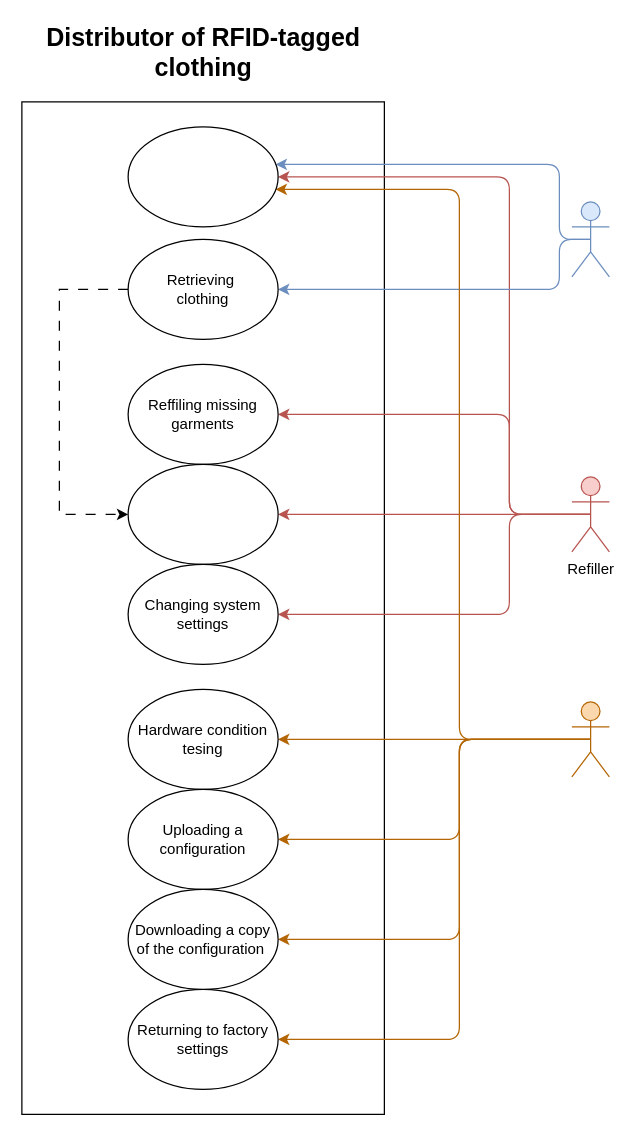
The diagram is 643 pixels wide and 1136 high, and some of its shapes have lost their labels. The box of each missing label's shape, as (x1, y1, x2, y2) in pixels:
End user: (571, 201, 609, 277)
Scanning access card: (127, 126, 278, 227)
Service: (571, 701, 609, 777)
Taking misplaced clothing: (127, 463, 278, 564)
